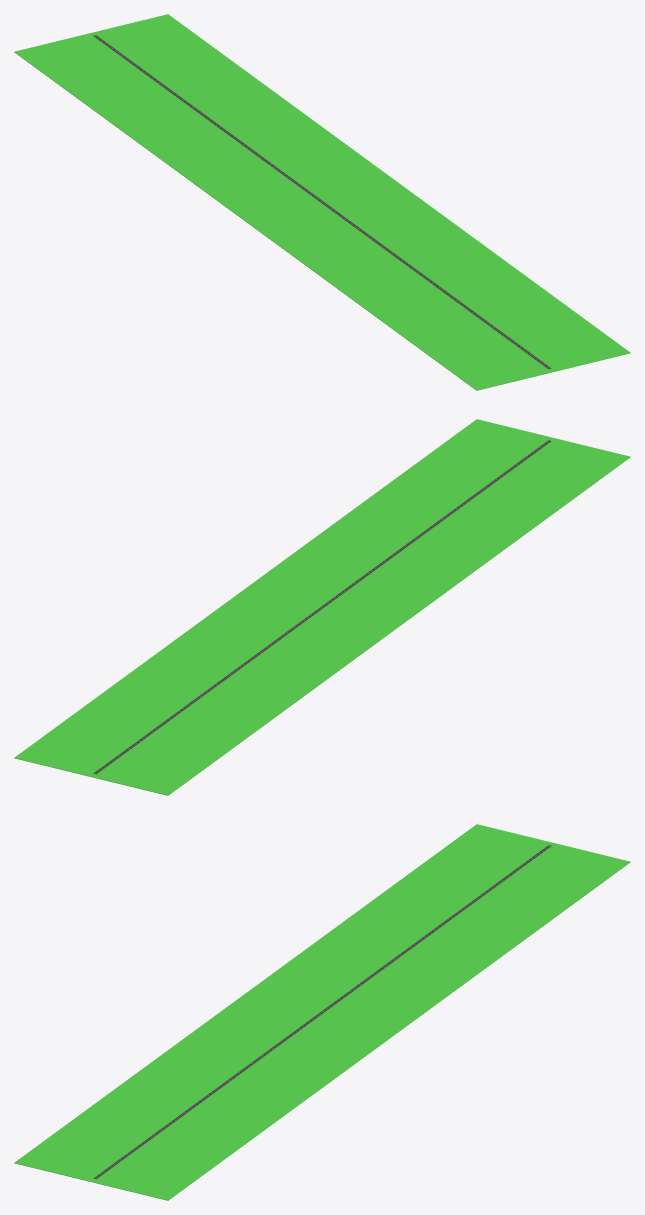
3 views of the same model, one above another, from view 1: azimuth 30°, elevation 25°; view 2: azimuth 150°, elevation 25°; view 3: azimuth 330°, elevation 25° (orthographic).
Parts seen in each view (by area): view 1: Plain, Cube; view 2: Plain, Cube; view 3: Plain, Cube.
Boxes of the visible parts, <box> form: Plain: <box>14,14,630,390</box>; Cube: <box>93,35,551,369</box>; Plain: <box>14,419,630,795</box>; Cube: <box>93,440,551,774</box>; Plain: <box>14,824,630,1200</box>; Cube: <box>93,845,551,1179</box>.
Bounding box in the file's own units: 100 × 0.2841 × 520.
